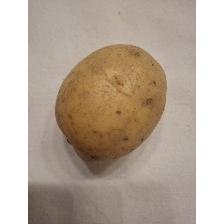Kartoffel: (52, 40, 170, 164)
